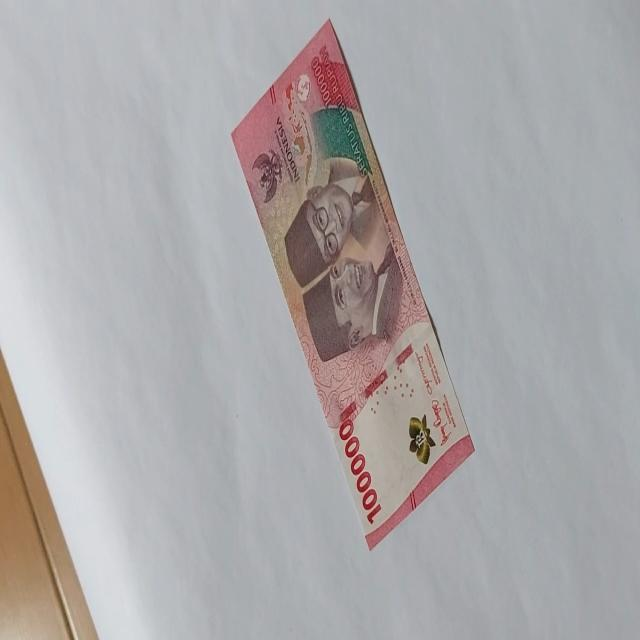seratus ribu rupiah: (230, 17, 476, 550), (328, 239, 403, 350)
